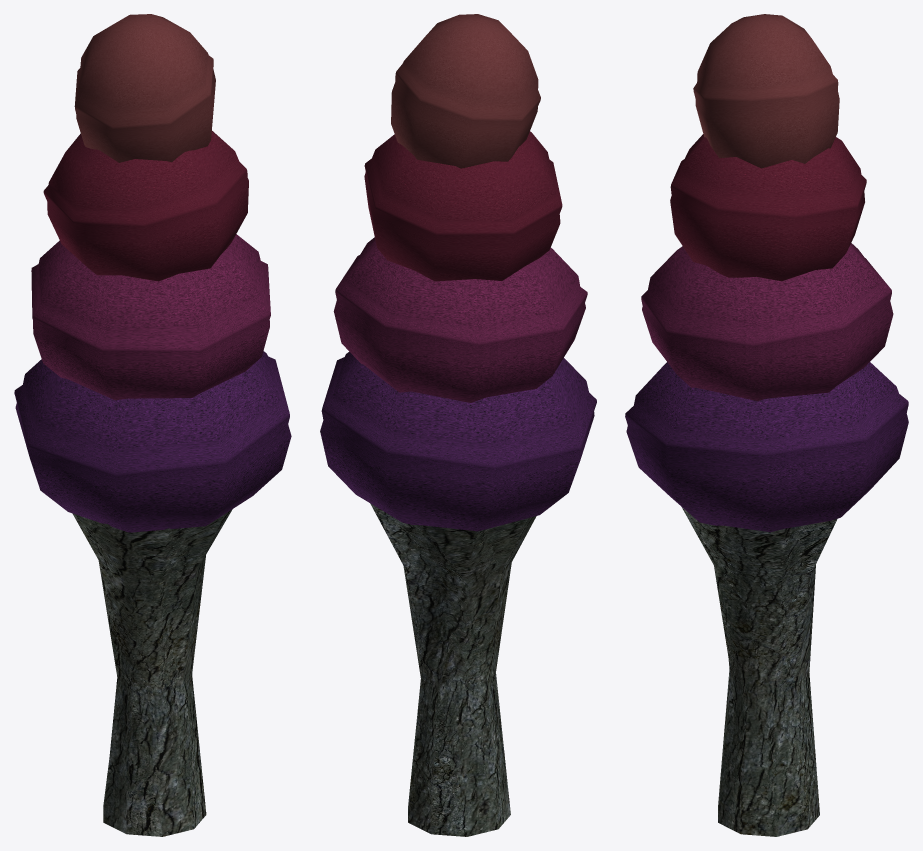
Rendered from hillTree4.obj.
3 renders of one model, left to right at view 1: azimuth 30°, elevation 25°; view 2: azimuth 150°, elevation 25°; view 3: azimuth 270°, elevation 25°, orthographic.
Parts seen in each view (by area): view 1: Sphere, wood_Cylinder, Sphere.001, Sphere.002, Sphere.003; view 2: Sphere, wood_Cylinder, Sphere.001, Sphere.002, Sphere.003; view 3: Sphere, wood_Cylinder, Sphere.001, Sphere.002, Sphere.003.
Boxes of the visible parts, bbox=[...] form: Sphere: bbox=[14, 351, 291, 532]; wood_Cylinder: bbox=[72, 509, 232, 836]; Sphere.001: bbox=[31, 234, 270, 400]; Sphere.002: bbox=[43, 131, 248, 281]; Sphere.003: bbox=[74, 14, 215, 162]; Sphere: bbox=[320, 351, 596, 531]; wood_Cylinder: bbox=[370, 503, 536, 836]; Sphere.001: bbox=[333, 237, 587, 402]; Sphere.002: bbox=[364, 131, 562, 281]; Sphere.003: bbox=[391, 14, 540, 168]; Sphere: bbox=[625, 362, 908, 532]; wood_Cylinder: bbox=[682, 507, 837, 836]; Sphere.001: bbox=[641, 243, 893, 401]; Sphere.002: bbox=[670, 134, 866, 281]; Sphere.003: bbox=[693, 14, 839, 168].
Size of the model in its own units: 1.04 by 3.21 by 1.04.
Materials: 5 (5 with a texture image).
